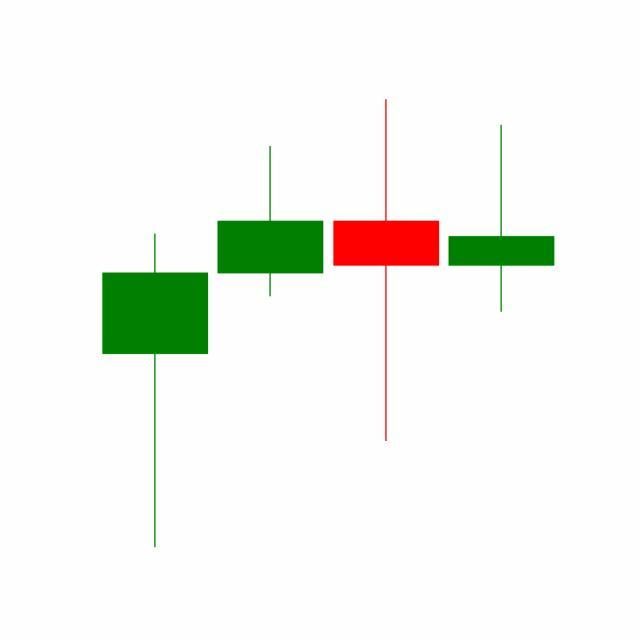Gravestone Doji: (444, 123, 560, 315)
